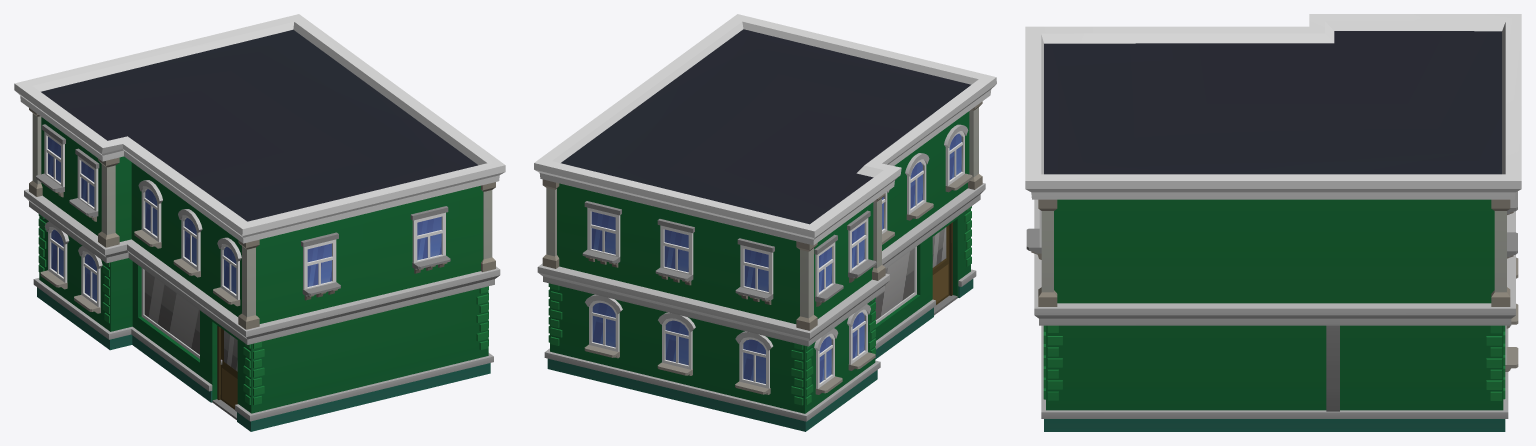
File: Building_1_2_D.fbx
The picture shows the model from 3 angles, left to right: view 1: azimuth 30°, elevation 25°; view 2: azimuth 150°, elevation 25°; view 3: azimuth 270°, elevation 25°; orthographic projection. The views are drawn at different scales.
Visible parts, largest first — view 1: Building_1_2_D; view 2: Building_1_2_D; view 3: Building_1_2_D.
Part boxes in pixels (<box>): Building_1_2_D: <box>14,14,505,431</box>; Building_1_2_D: <box>534,14,996,431</box>; Building_1_2_D: <box>1025,14,1521,431</box>.
Size of the model in its own units: 841 by 600 by 1057.
